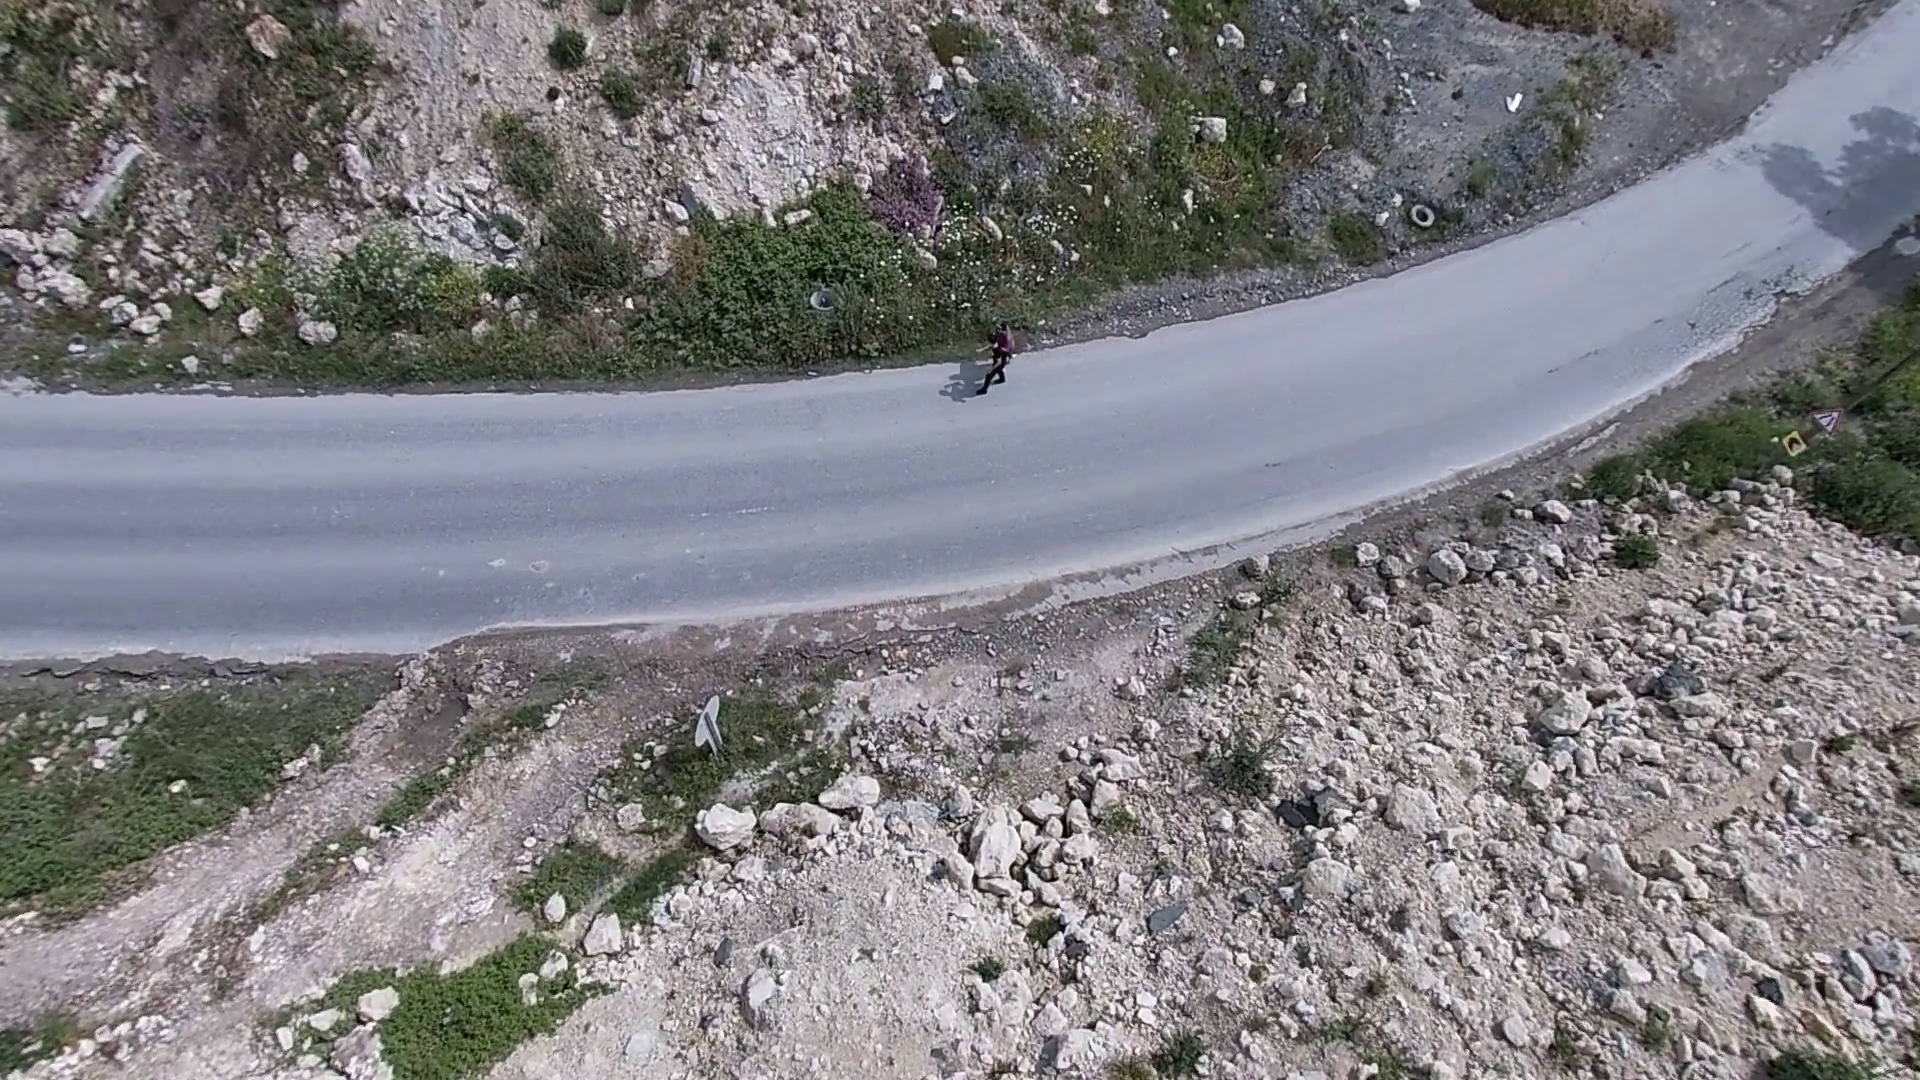insan: (975, 332, 1012, 400), (989, 319, 1026, 382)
